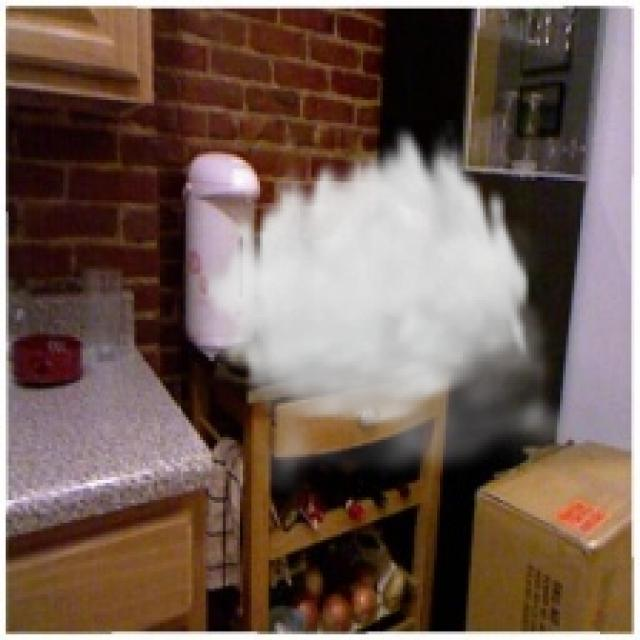smoke: (200, 120, 603, 500)
